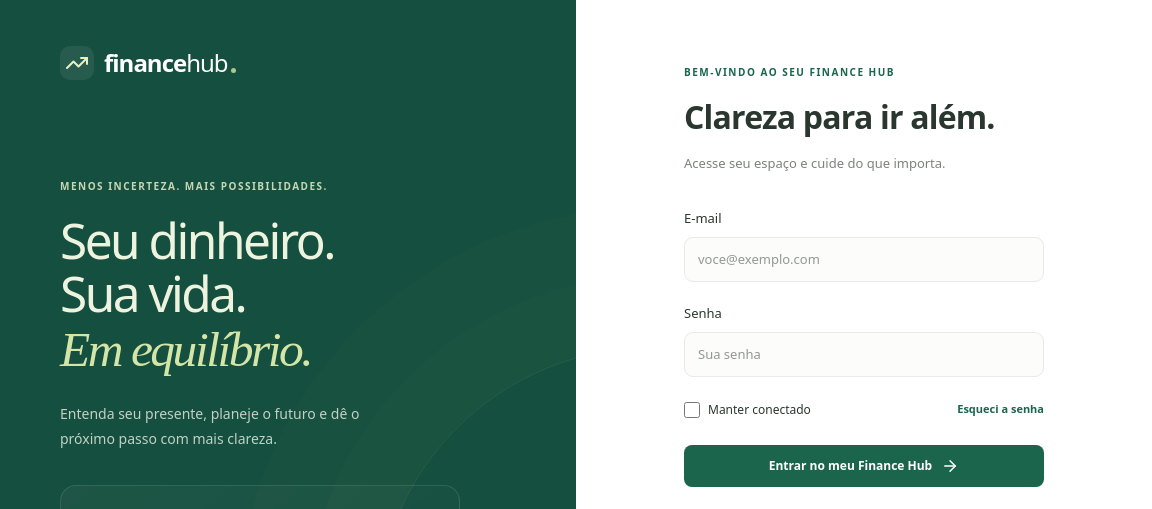
recuperação exige somente e-mail, sem senha de login
The width and height of the screenshot is (1152, 509).
Click the button "Esqueci a senha" at (1001, 410), box top-left (957, 394), bottom-right (1044, 425)
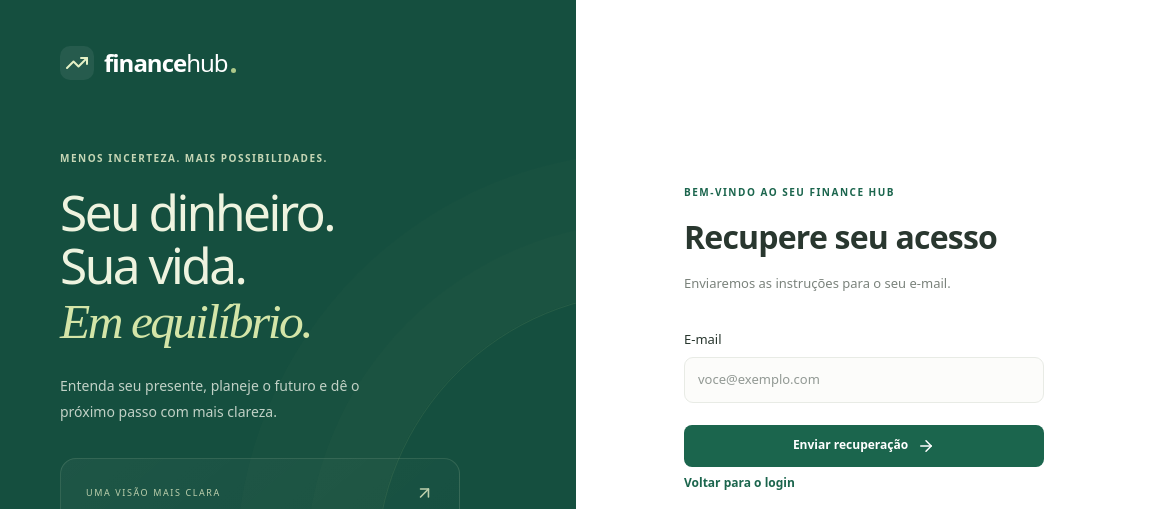
Type "teste@example.test" into the field labelled "E-mail" at (864, 380), box top-left (684, 357), bottom-right (1044, 403)
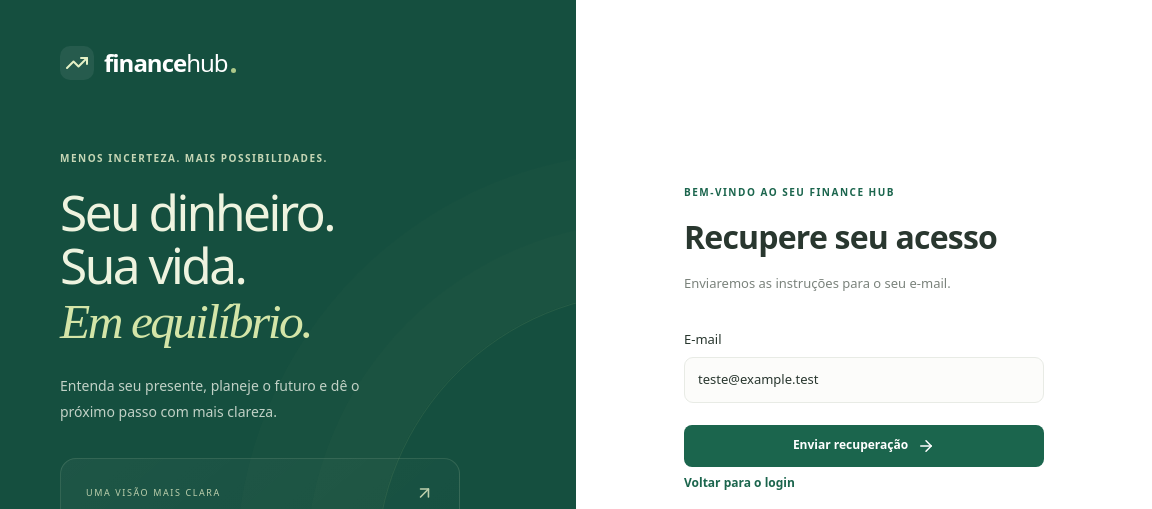
Click the button "Enviar recuperação" at (864, 446), box top-left (684, 425), bottom-right (1044, 467)
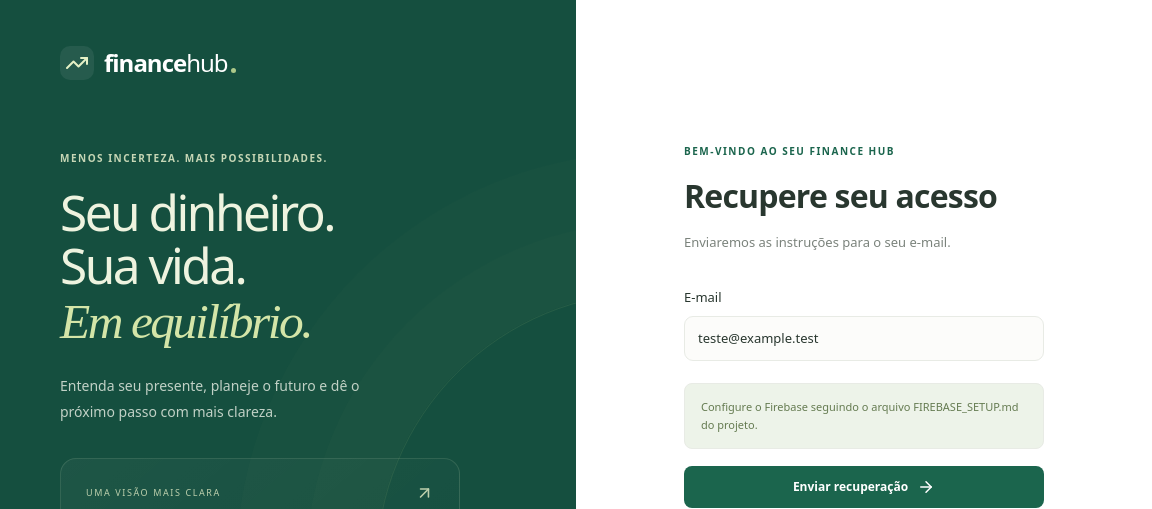
Now the message shows "Configure o Firebase", box top-left (701, 399), bottom-right (1018, 432)
